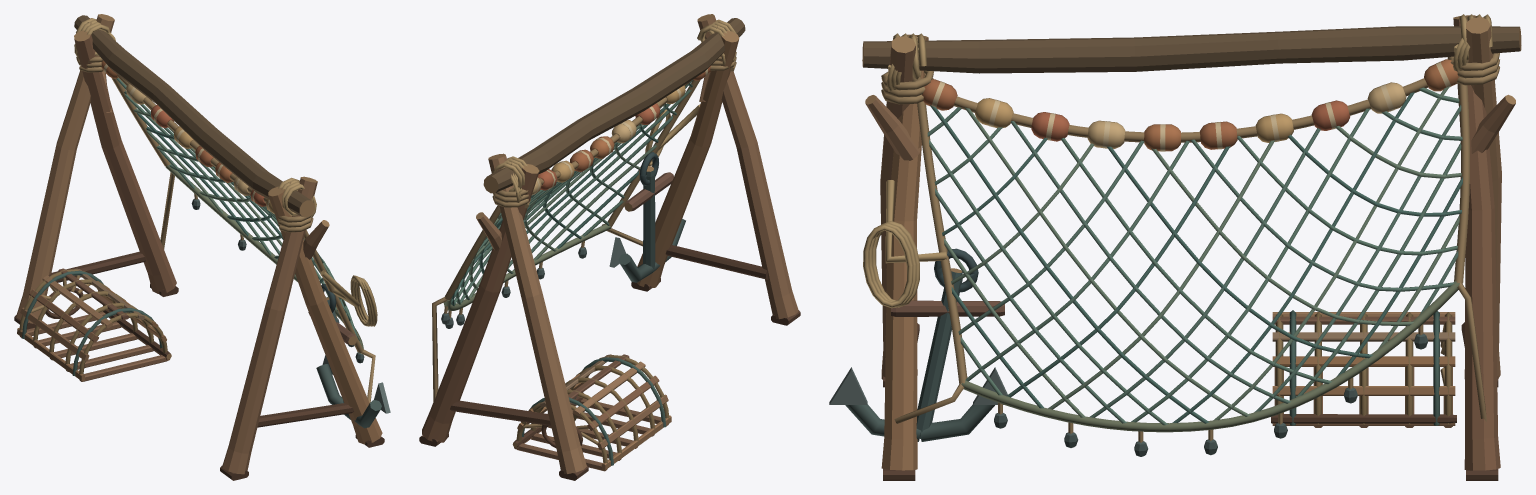
File: SM_PirateNetRack.fbx
3 views of the same model, side by side, from view 1: azimuth 30°, elevation 25°; view 2: azimuth 150°, elevation 25°; view 3: azimuth 270°, elevation 25° (orthographic). The views are drawn at different scales.
Parts seen in each view (by area): view 1: SM_PirateNetRack; view 2: SM_PirateNetRack; view 3: SM_PirateNetRack.
Boxes of the visible parts, x1=… form: SM_PirateNetRack: x1=14, y1=14, x2=390, y2=480; SM_PirateNetRack: x1=419, y1=14, x2=800, y2=480; SM_PirateNetRack: x1=829, y1=14, x2=1521, y2=480.
Size of what is drawn, in the model's own units: 1.66 by 3.28 by 2.16.
